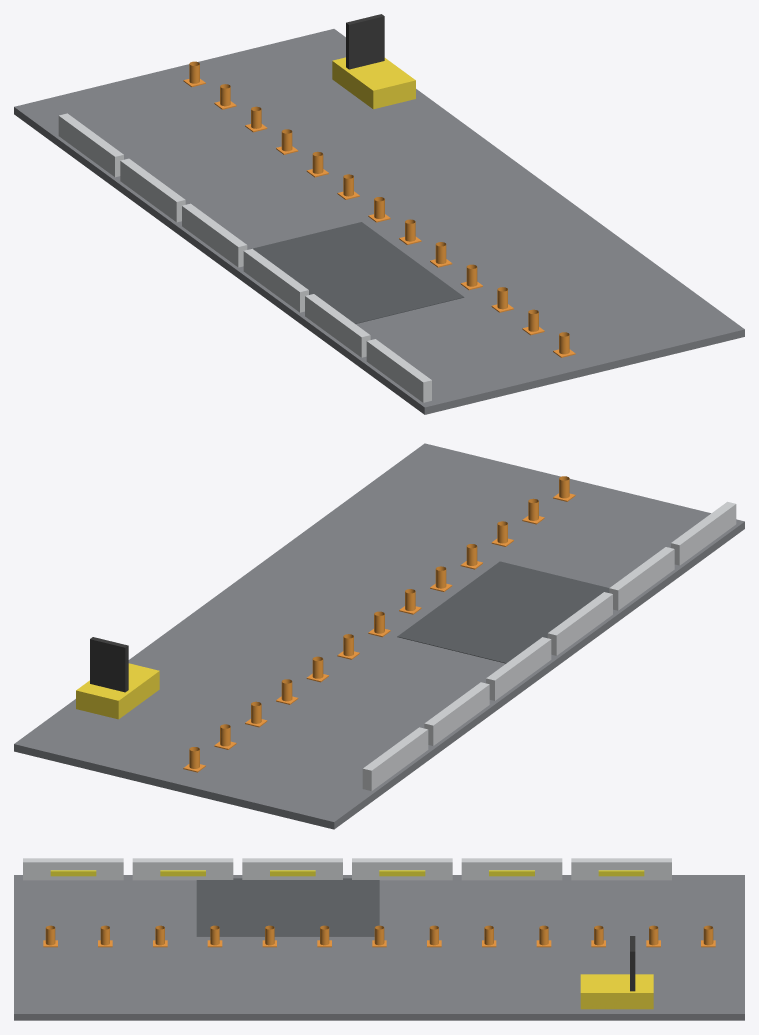
File: road_construction_site.glb
3 views of the same model, one above another, from view 1: azimuth 30°, elevation 25°; view 2: azimuth 150°, elevation 25°; view 3: azimuth 270°, elevation 25° (orthographic). The views are drawn at different scales.
Visible parts, largest first — view 1: BaseRoadAsphalt, FreshPavedBitumen, VMSTrailerChassis, JerseyBarrierW_14, VMSDisplayScreen, JerseyBarrierW_-16, JerseyBarrierW_-10, JerseyBarrierW_2, JerseyBarrierW_-4, JerseyBarrierW_8; view 2: BaseRoadAsphalt, FreshPavedBitumen, VMSTrailerChassis, JerseyBarrierW_-16, VMSDisplayScreen, JerseyBarrierW_-4, JerseyBarrierW_14, JerseyBarrierW_8, JerseyBarrierW_-10, JerseyBarrierW_2; view 3: BaseRoadAsphalt, FreshPavedBitumen, VMSTrailerChassis, JerseyBarrierW_-10, JerseyBarrierW_-16, JerseyBarrierW_14, JerseyBarrierW_8, JerseyBarrierW_-4, JerseyBarrierW_2, VMSDisplayScreen, BarrierChevron_-4, BarrierChevron_-16 (+4 smaller).
Boxes of the visible parts, <box> form: BaseRoadAsphalt: <box>14,29,744,414</box>; FreshPavedBitumen: <box>250,222,464,323</box>; VMSTrailerChassis: <box>332,57,415,109</box>; JerseyBarrierW_14: <box>366,339,431,402</box>; VMSDisplayScreen: <box>346,14,384,69</box>; JerseyBarrierW_-16: <box>58,113,123,177</box>; JerseyBarrierW_-10: <box>120,158,185,222</box>; JerseyBarrierW_2: <box>243,248,308,312</box>; JerseyBarrierW_-4: <box>182,203,247,267</box>; JerseyBarrierW_8: <box>305,294,370,357</box>; BaseRoadAsphalt: <box>14,443,744,829</box>; FreshPavedBitumen: <box>397,561,609,663</box>; VMSTrailerChassis: <box>76,663,159,719</box>; JerseyBarrierW_-16: <box>362,727,428,791</box>; VMSDisplayScreen: <box>90,637,128,692</box>; JerseyBarrierW_-4: <box>486,637,551,700</box>; JerseyBarrierW_14: <box>671,501,736,565</box>; JerseyBarrierW_8: <box>609,547,674,610</box>; JerseyBarrierW_-10: <box>424,682,489,745</box>; JerseyBarrierW_2: <box>547,592,612,655</box>; BaseRoadAsphalt: <box>14,875,744,1020</box>; FreshPavedBitumen: <box>196,878,379,936</box>; VMSTrailerChassis: <box>580,974,653,1009</box>; JerseyBarrierW_-10: <box>461,858,562,880</box>; JerseyBarrierW_-16: <box>571,858,671,880</box>; JerseyBarrierW_14: <box>23,858,123,880</box>; JerseyBarrierW_8: <box>132,858,233,880</box>; JerseyBarrierW_-4: <box>352,858,452,880</box>; JerseyBarrierW_2: <box>242,858,342,879</box>; VMSDisplayScreen: <box>630,936,635,991</box>; BarrierChevron_-4: <box>379,870,425,876</box>; BarrierChevron_-16: <box>598,870,644,876</box>.
Bounding box in the file's own units: 18 × 3.8 × 40.
